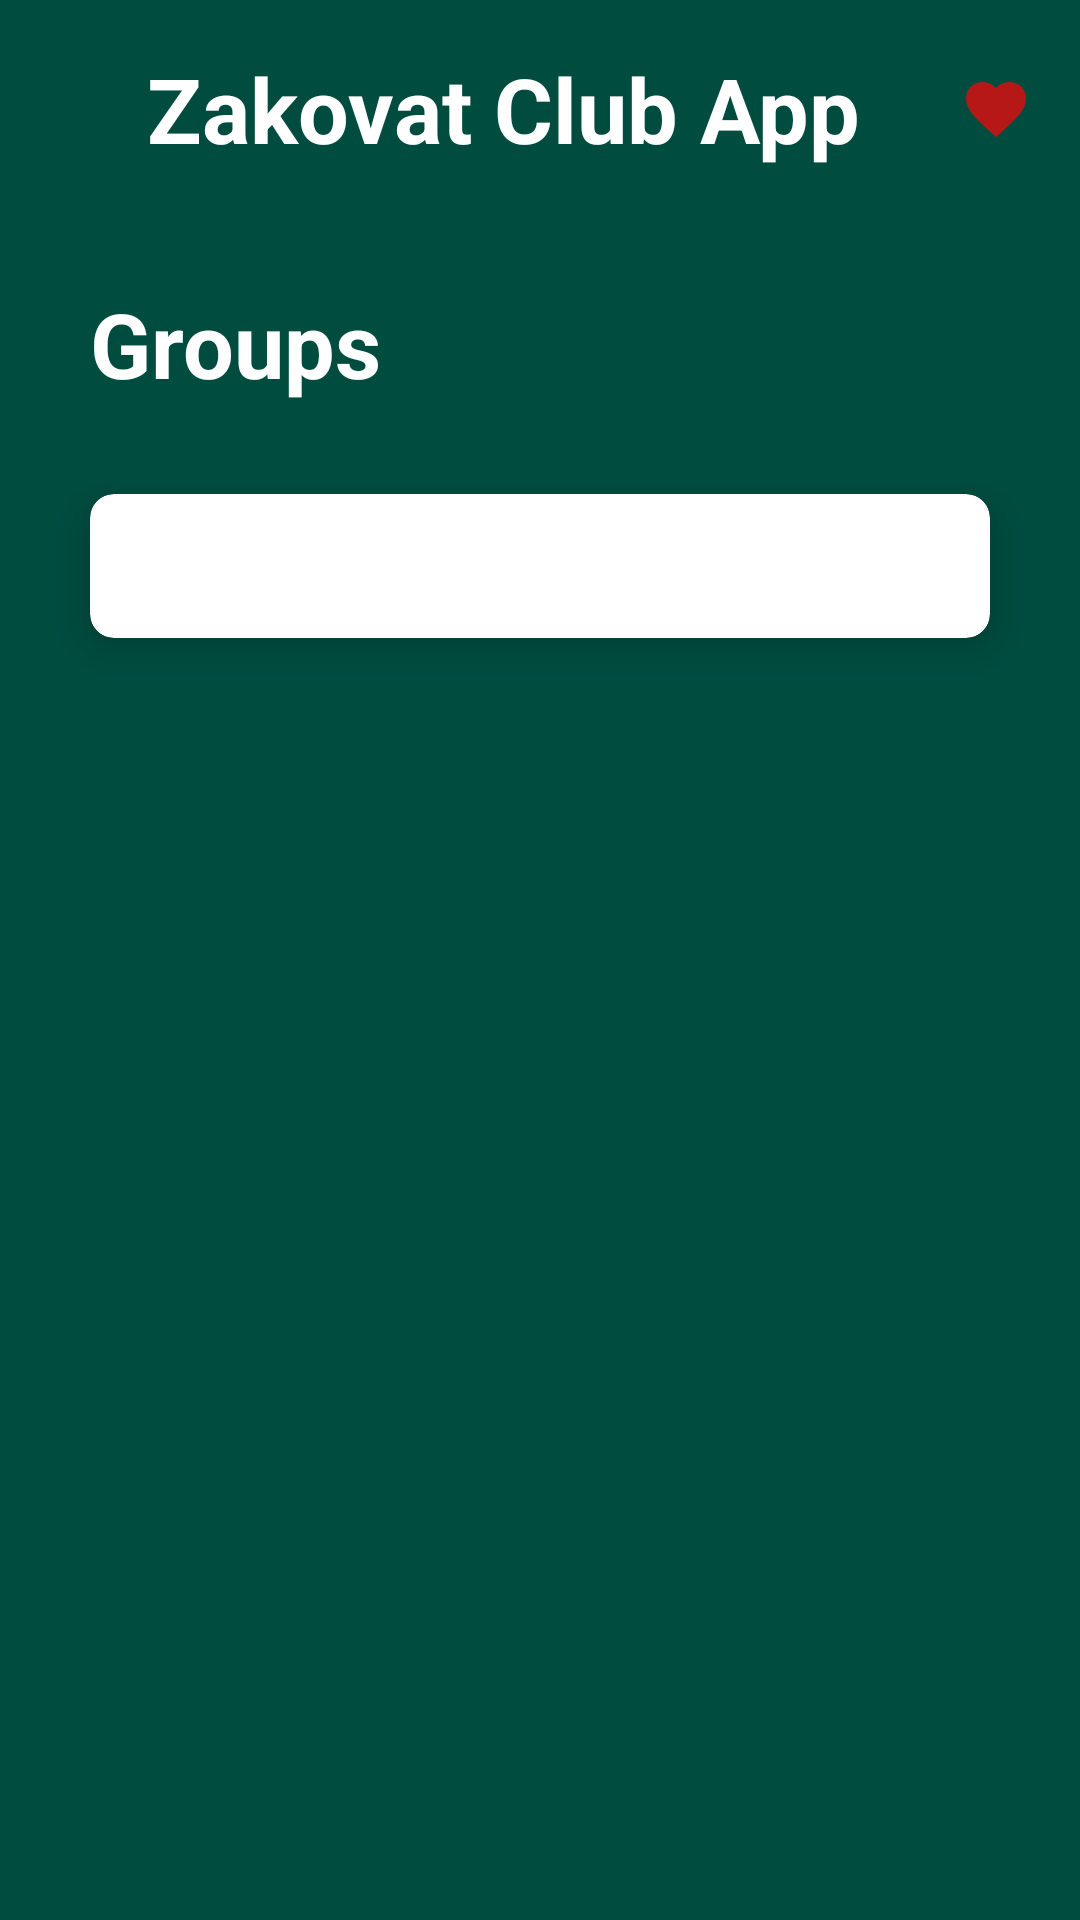

Where to tap for icons on this 1080*1920 app screen, as (x,y):
favorite: (996,109)
